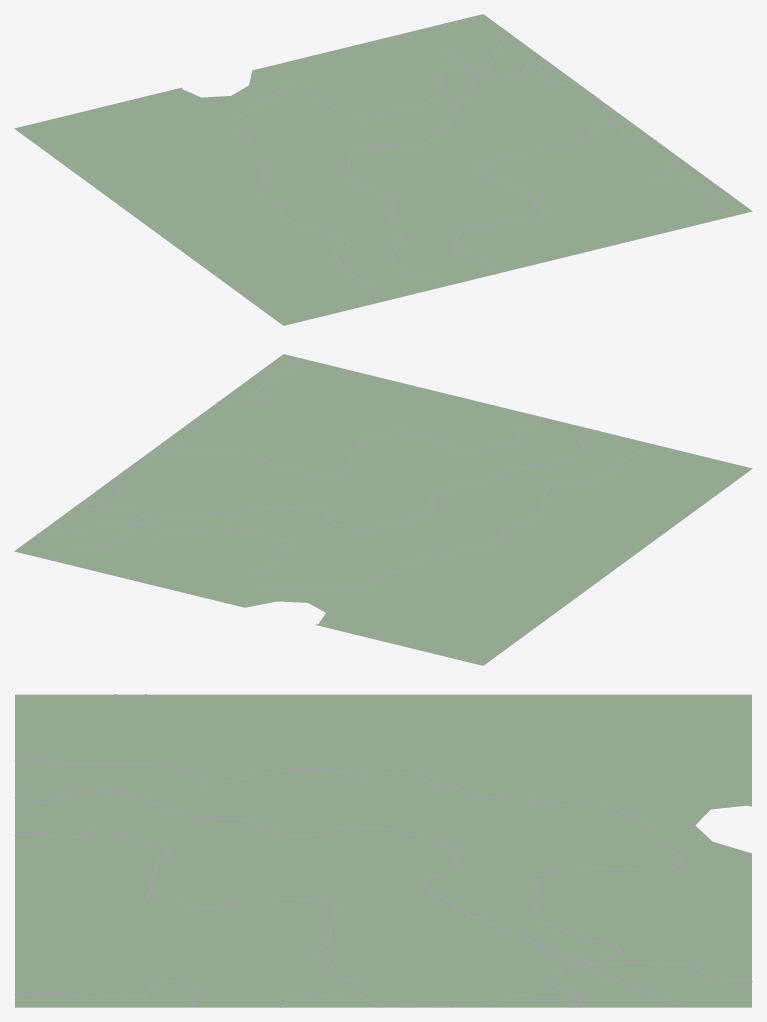
The model's file is -20_14-known-fine.glb.
The picture shows the model from 3 angles, top to bottom: view 1: azimuth 30°, elevation 25°; view 2: azimuth 150°, elevation 25°; view 3: azimuth 270°, elevation 25°; orthographic projection. The views are drawn at different scales.
Size of the model in its own units: 1002 by 0.1 by 997.
